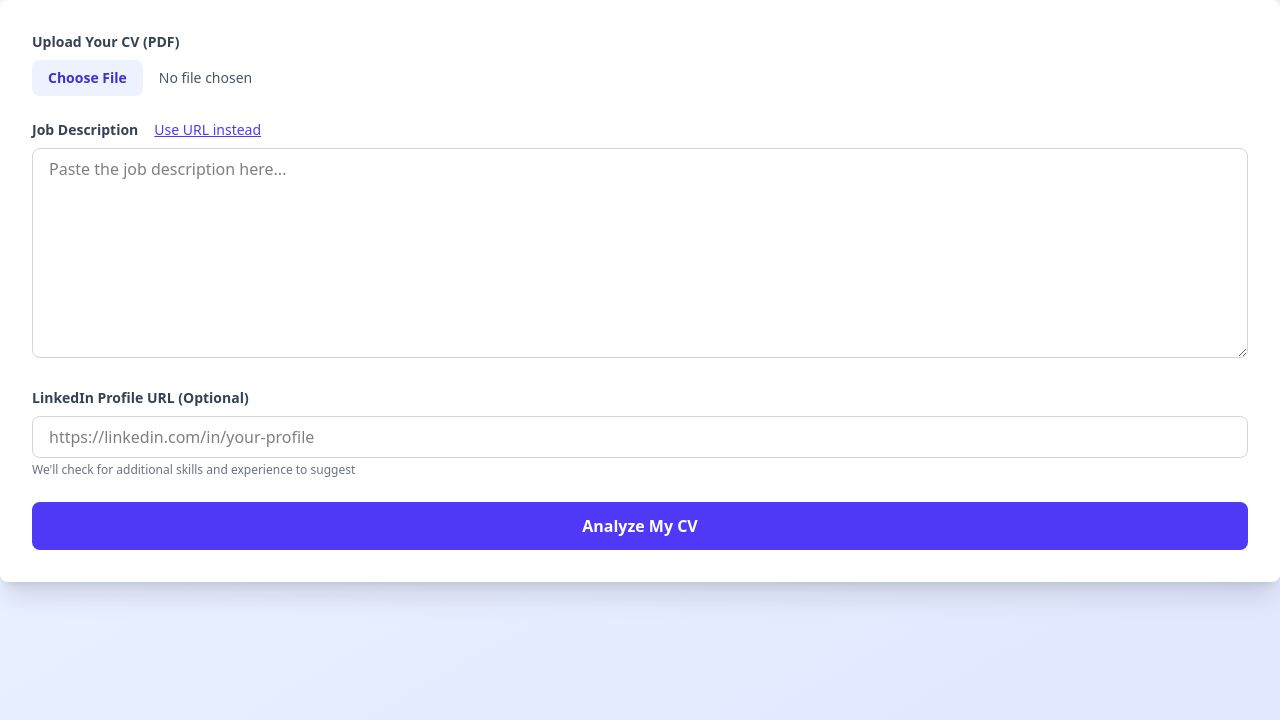
Test: UploadForm › toggles between text input and URL input for job description
Check: the text box with placeholder "Paste the job description here..." is shown, box [32,148,1248,358]
# Click to switch to URL
What coordinates should you click on to do the following:
click the button "Use URL instead"
I would click on:
 (208, 130)
Its box is [154,120,261,140].
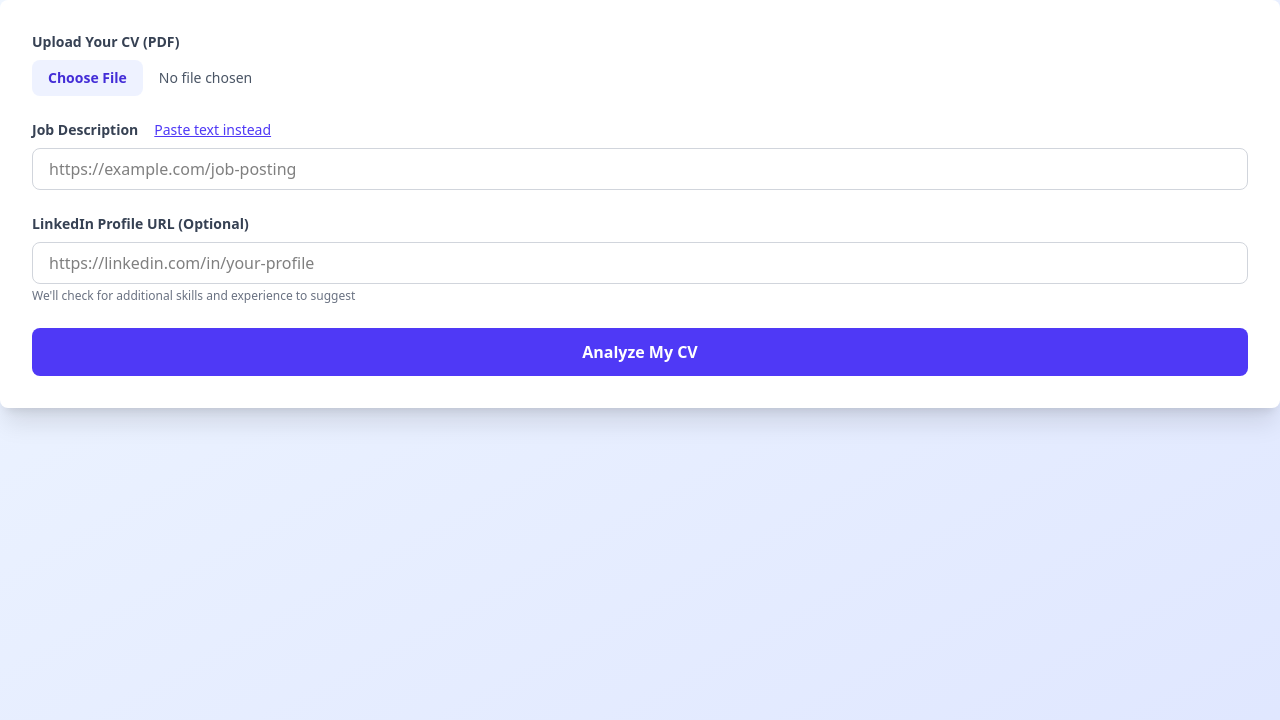
Check: the field with placeholder "https://example.com/job-posting" is shown, box [32,148,1248,190]
Check: the button "Paste text instead" is shown, box [154,120,271,140]
